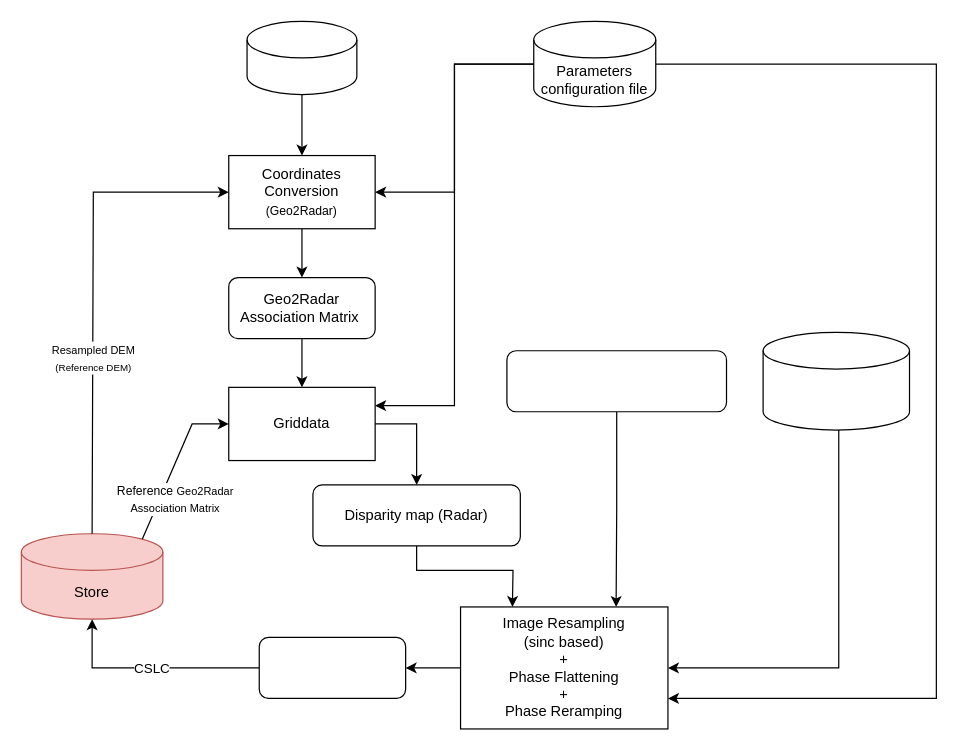
The diagram is 967 pixels wide and 750 high, and some of its shapes have lost their labels. Here are the shapes that lost their labels. From the top down, the box of each, then its label:
(246, 20, 357, 95): Orbital data
(506, 350, 727, 412): Calibrated, Deramped, Demodulated SAR SLC
(762, 331, 910, 430): Extended Timing Annotations Data (ETAD)
(258, 636, 406, 698): Co-registered SAR SLC
